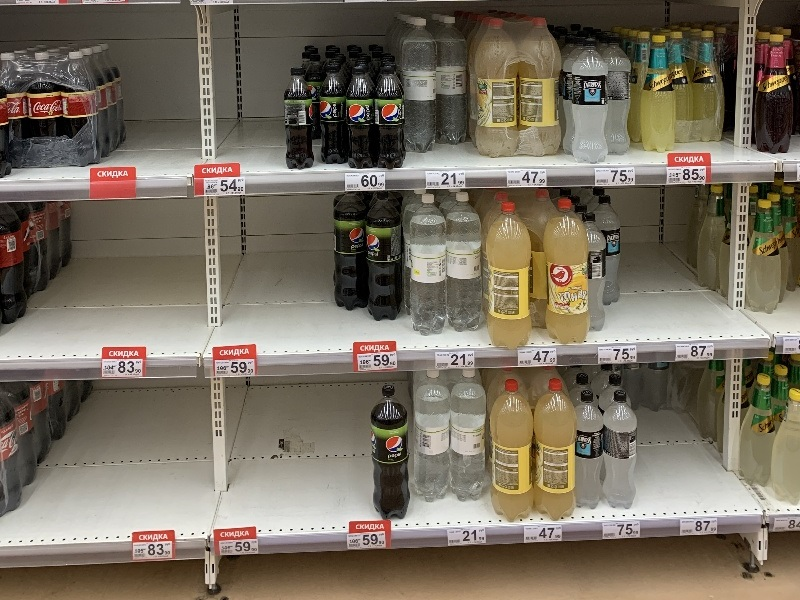lemonade: (485, 198, 540, 358), (487, 376, 540, 526), (542, 199, 590, 345), (531, 375, 577, 521), (368, 383, 413, 527), (360, 191, 404, 327), (272, 64, 323, 173), (639, 34, 681, 158), (373, 63, 411, 174), (316, 66, 356, 169), (344, 64, 377, 174)
